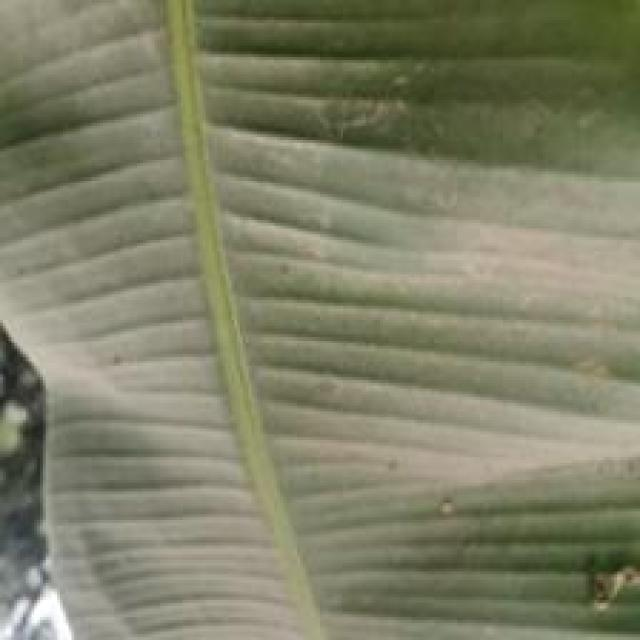Black_leaf_spot: (105, 39, 601, 478)
